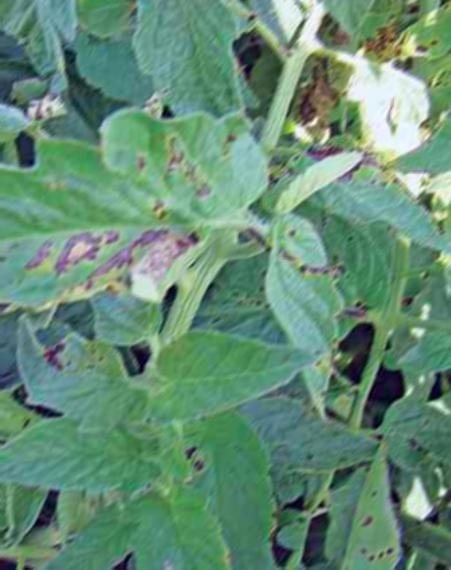Tomato Early blight leaf: (0, 104, 289, 337)
Tomato leaf: (141, 334, 332, 424), (0, 428, 137, 490), (44, 504, 147, 570)
